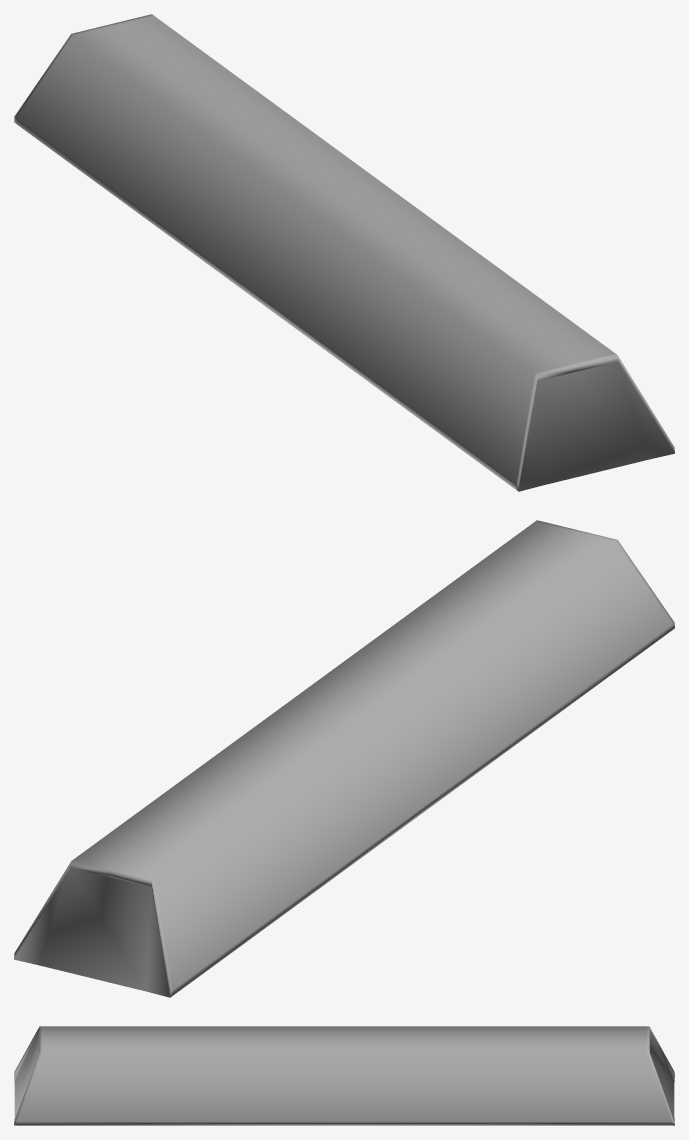
File: light.fbx
3 views of the same model, one above another, from view 1: azimuth 30°, elevation 25°; view 2: azimuth 150°, elevation 25°; view 3: azimuth 270°, elevation 25° (orthographic). The views are drawn at different scales.
Visible parts, largest first — view 1: light; view 2: light; view 3: light.
Boxes of the visible parts, left/top/right/bottom form: light: left=14, top=14, right=674, bottom=491; light: left=14, top=520, right=674, bottom=997; light: left=14, top=1026, right=674, bottom=1125.
Size of the model in its own units: 81.6 by 46.68 by 456.
1 material, 1 textured.
